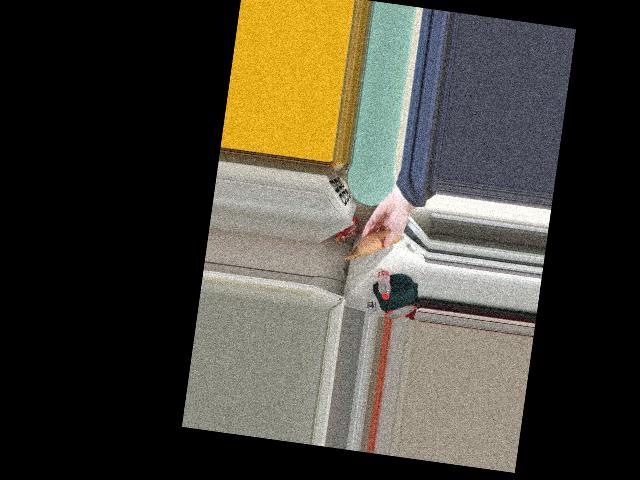sweet_potato: (358, 226, 395, 257)
